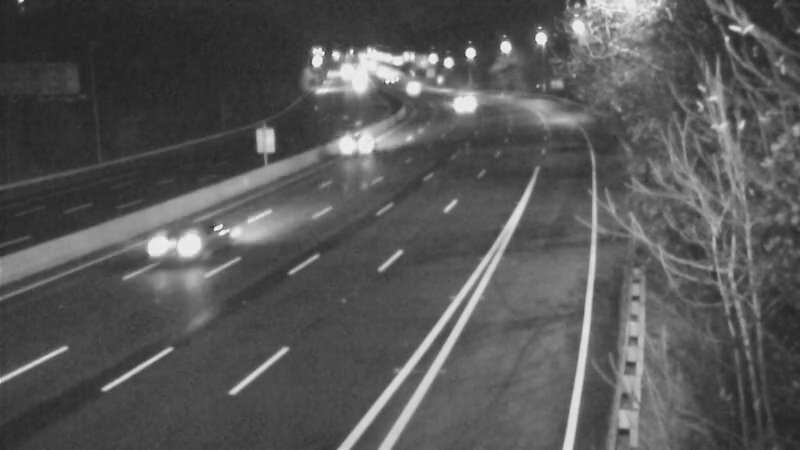vehicle: (142, 205, 222, 285), (386, 62, 436, 112), (435, 78, 485, 128), (334, 122, 384, 172)
